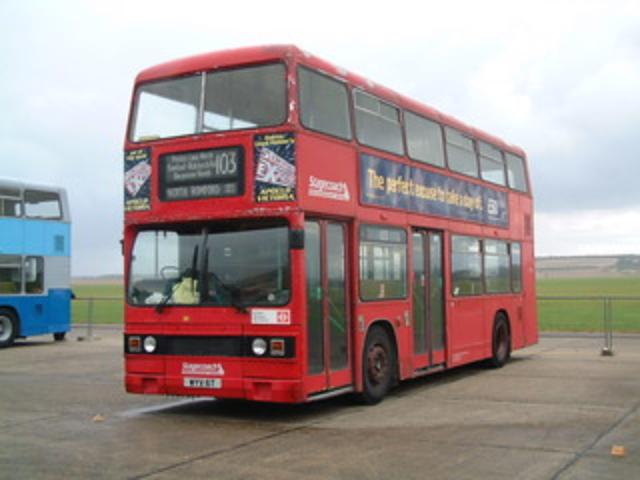bus: (120, 42, 538, 404)
